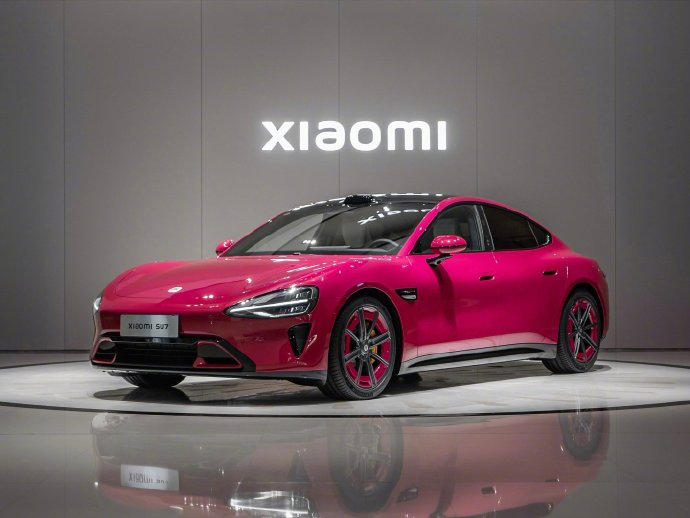su7: (90, 194, 611, 391)
